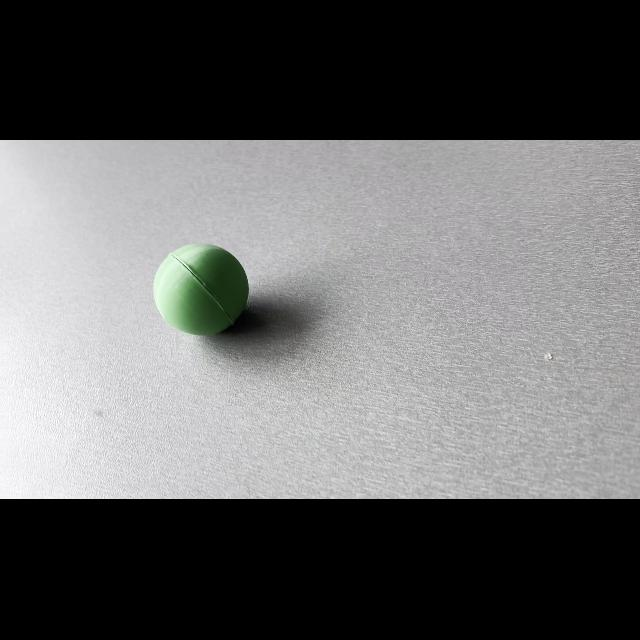objects: (146, 236, 254, 340)
